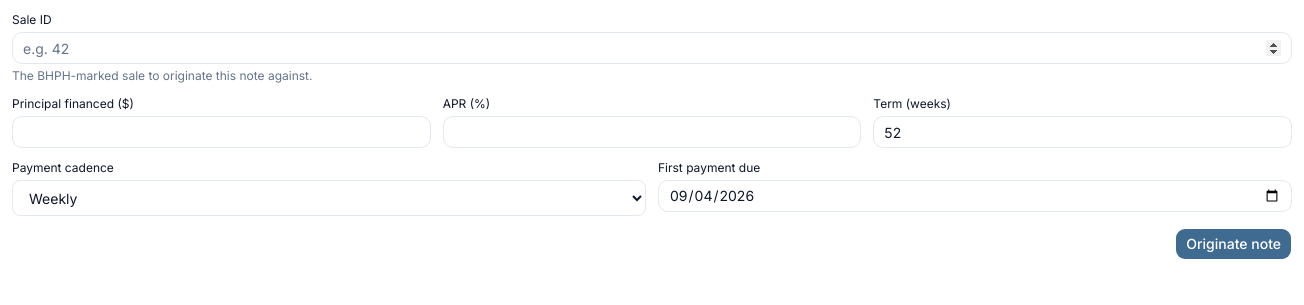
it: RecordBhphNoteForm › blocks submit when principal is zero
Step 1. Type "42" into the number field with test id "record-bhph-note-sale-id" → coordinates (652, 48), box [12,32,1292,64]
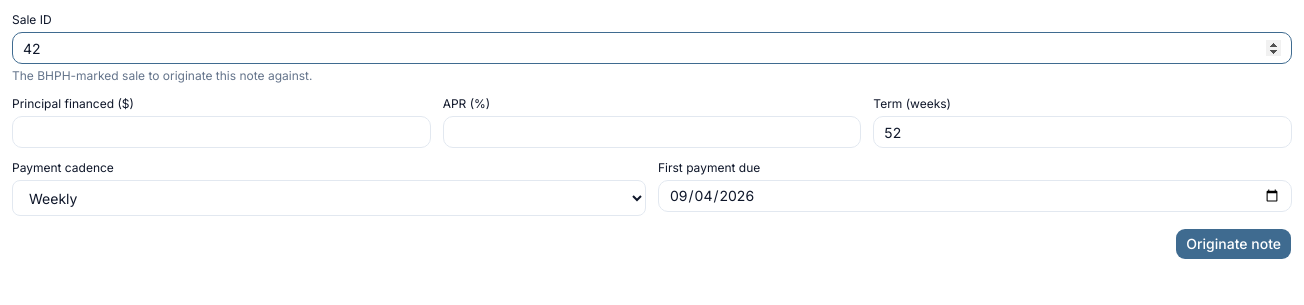
Step 2. Type "0" into the number field with test id "record-bhph-note-principal" → coordinates (221, 132), box [12,116,431,148]
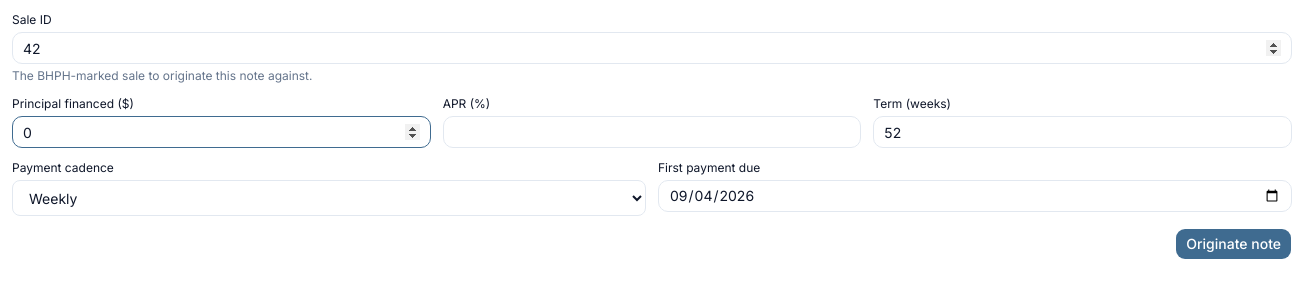
Step 3. Type "18.5" into the number field with test id "record-bhph-note-apr" → coordinates (652, 132), box [443,116,861,148]
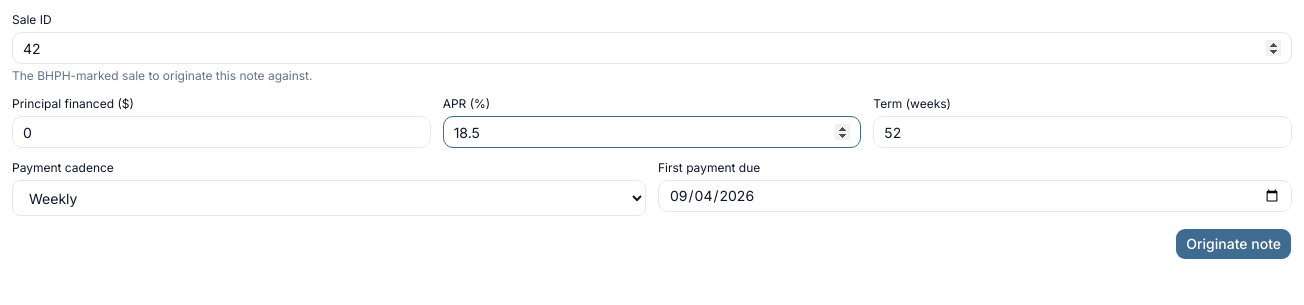
Step 4. Click the button with test id "record-bhph-note-submit" → coordinates (1234, 244), box [1175,228,1292,260]
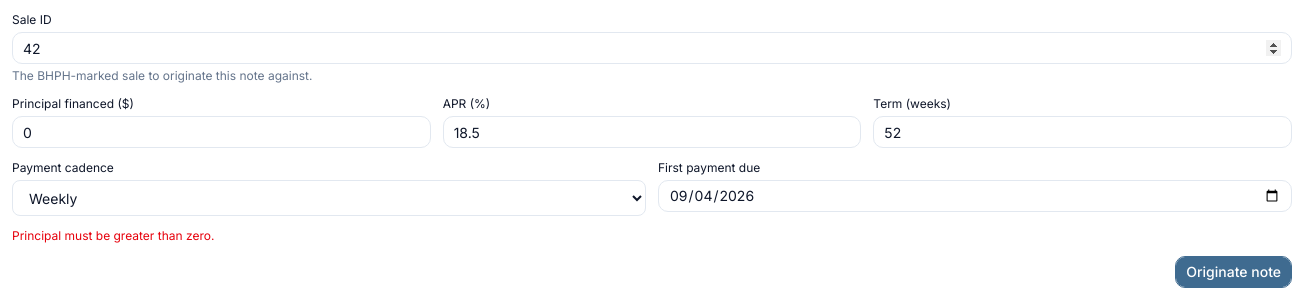
Expected: the message "Principal must be greater than zero." is shown, [12,228,214,243]
